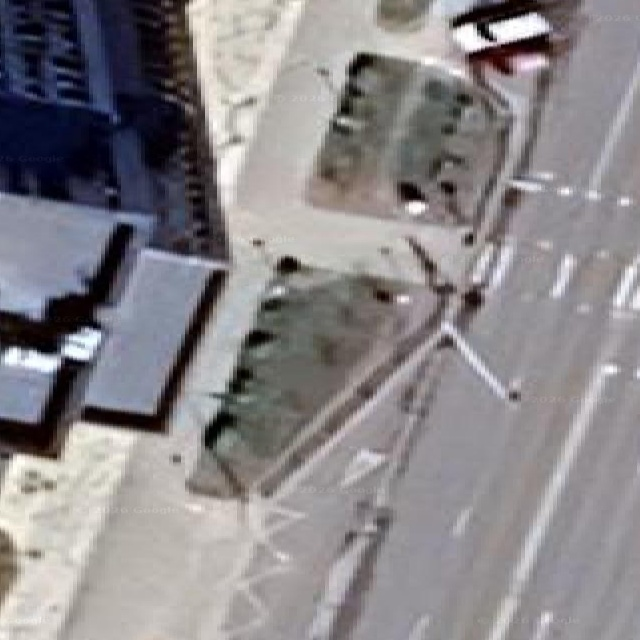car: (452, 0, 552, 71)
